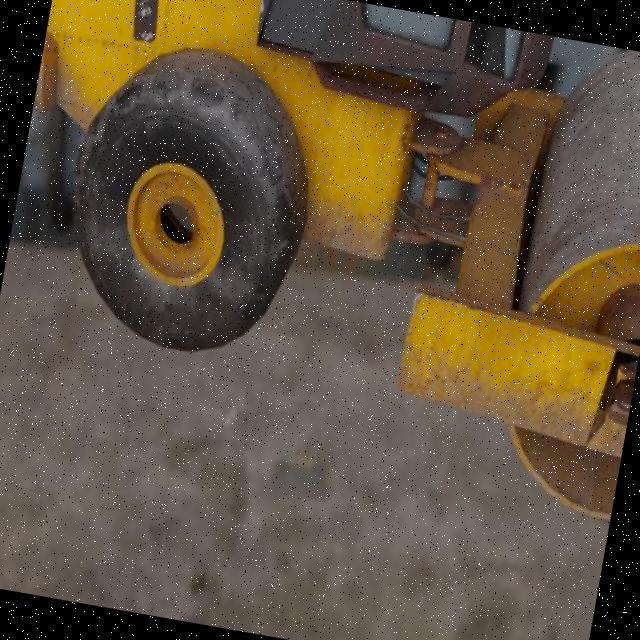Roller: (0, 0, 640, 521)
